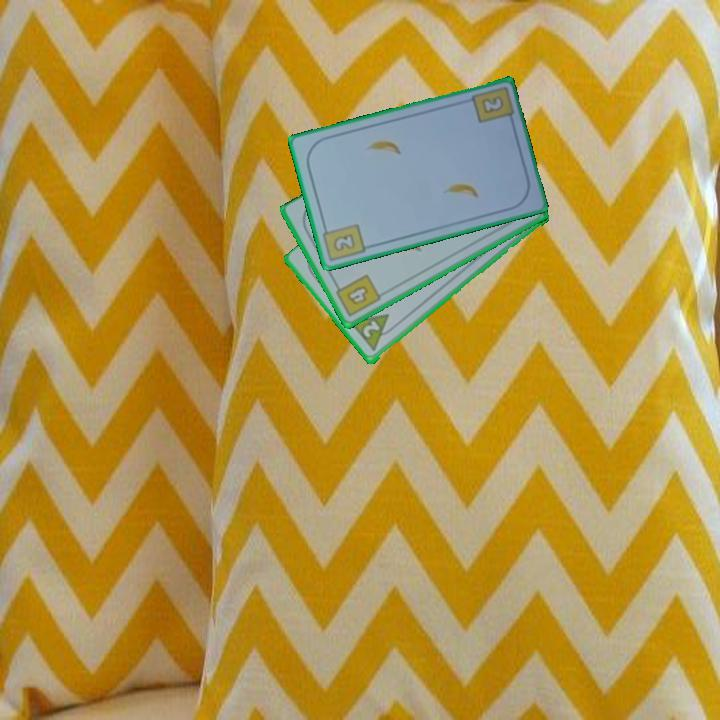2b: (319, 220, 368, 264), (478, 92, 506, 117)
2p: (359, 317, 383, 341)
4b: (331, 271, 384, 320)
